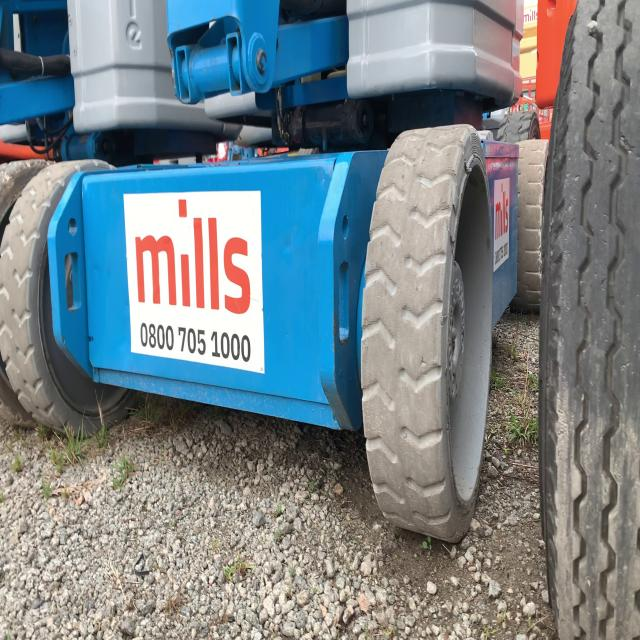Adesivos: (122, 186, 267, 377)
